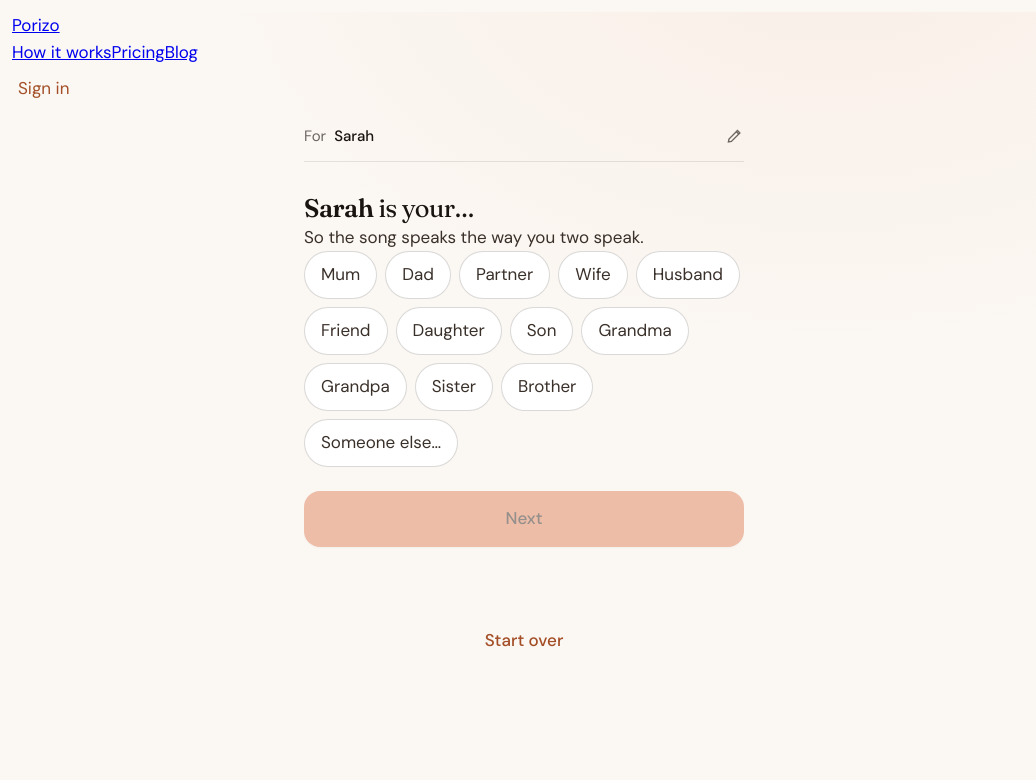
Test case: initial funnel route › confirms reset, preserves guest credentials, and removes stale route intent
Click the button "Start over".
click(524, 641)  # box [469, 619, 579, 663]
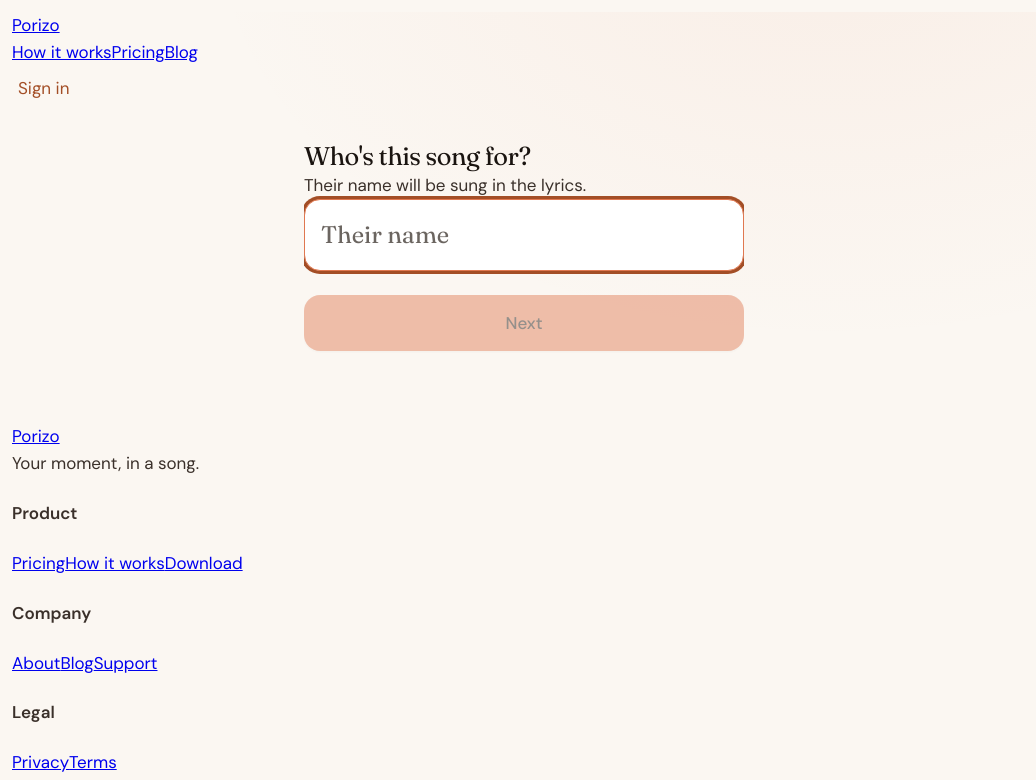
Check: the heading "Who's this song for?" is shown, box [304, 142, 530, 172]
